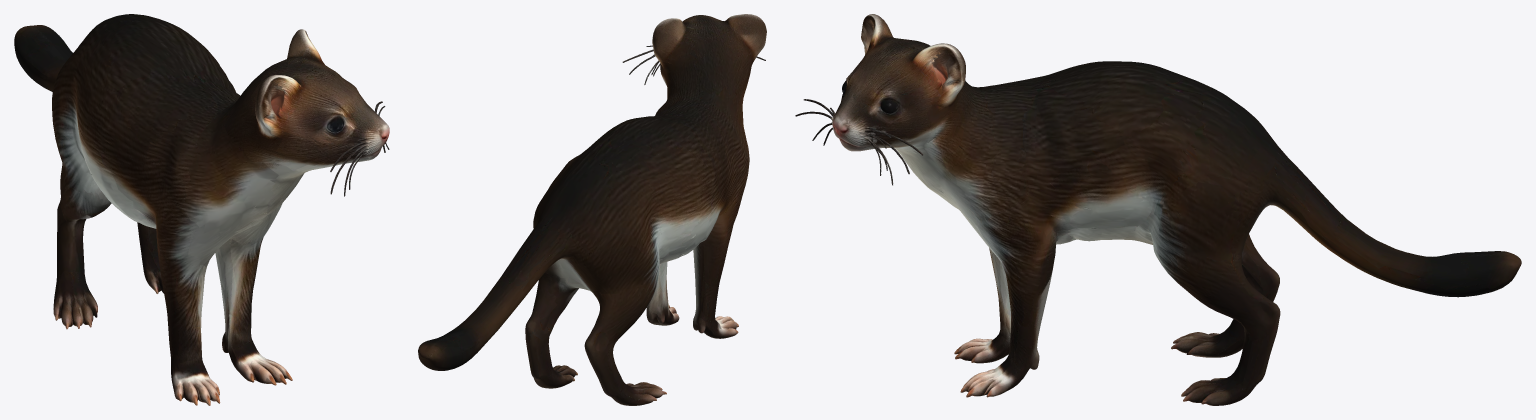
Rendered from ermine.glb.
3 renders of one model, left to right at view 1: azimuth 30°, elevation 25°; view 2: azimuth 150°, elevation 25°; view 3: azimuth 270°, elevation 25°, orthographic. The views are drawn at different scales.
Bounding box in the file's own units: 0.5933 × 1.03 × 1.91.
1 material, 1 textured.
